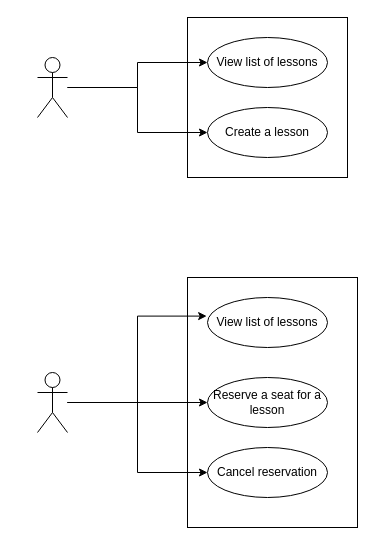
This 375x545 diagram has some shape labels left out. The shapes that lost their labels are listed below. From the top down, each one's box as (x1, y1, x2, y2) in pixels, then its label:
(36, 56, 68, 118): Administrator
(36, 372, 68, 432): User
